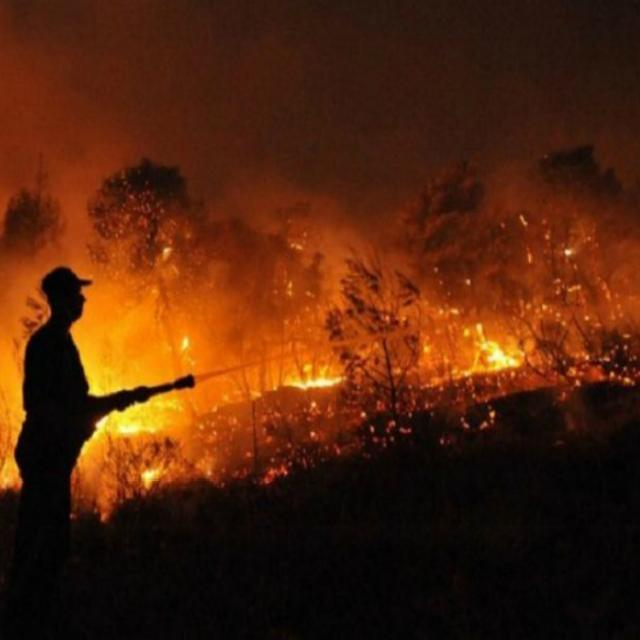Fire: (0, 186, 640, 534), (6, 0, 281, 178)
Smoke: (286, 2, 640, 151)
